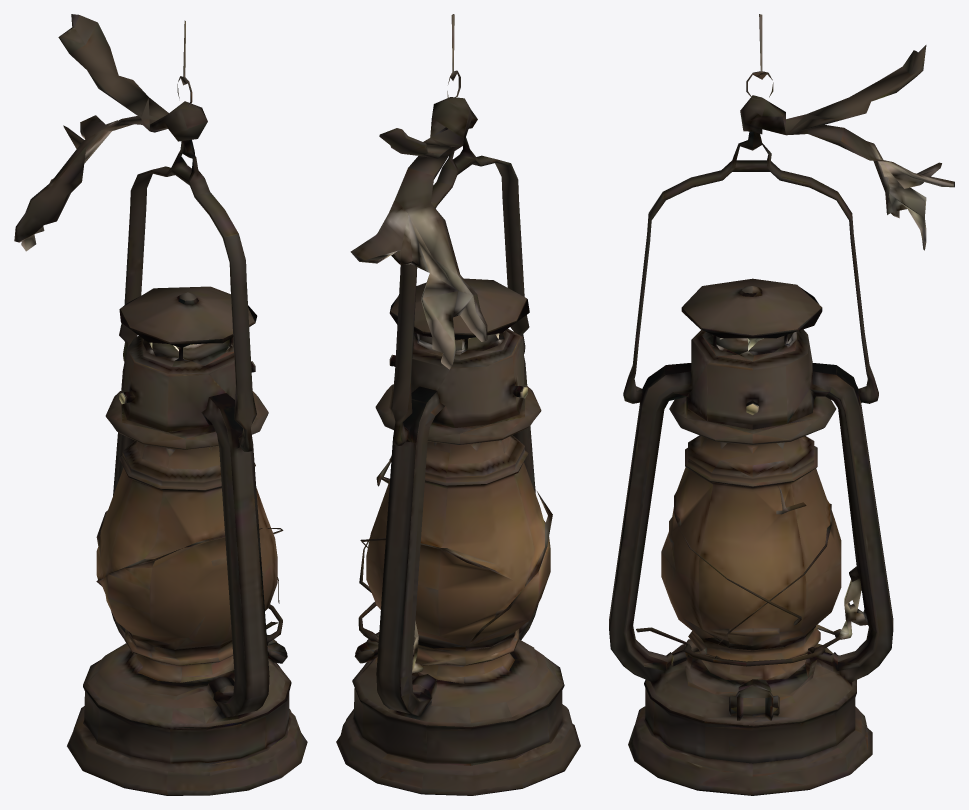
Rendered from windfall_haunt.glb.
3 views of the same model, side by side, from view 1: azimuth 30°, elevation 25°; view 2: azimuth 150°, elevation 25°; view 3: azimuth 270°, elevation 25° (orthographic).
Visible parts, largest first — view 1: base_model_path; view 2: base_model_path; view 3: base_model_path.
Part boxes in pixels (bbox=[...]): base_model_path: bbox=[14, 14, 307, 795]; base_model_path: bbox=[336, 14, 580, 795]; base_model_path: bbox=[609, 14, 954, 795].
Bounding box in the file's own units: 0.3034 × 1 × 0.4285.
1 material, 1 textured.
